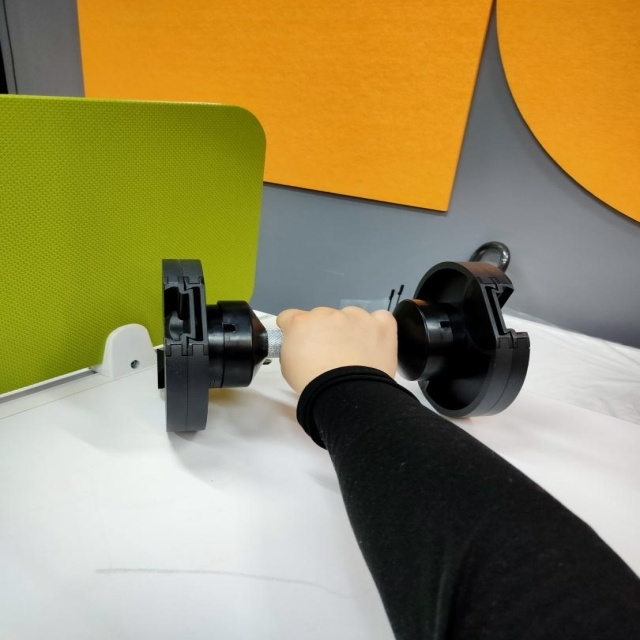03-6kg: (156, 257, 529, 432)
